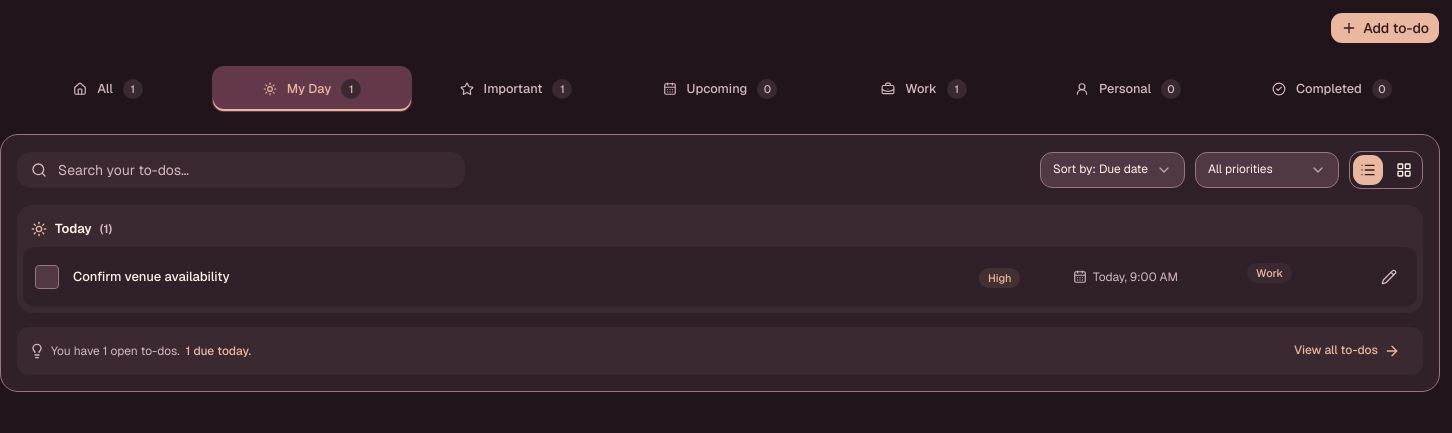
Scenario: TodoManager › shows a rejected completion update without marking the item complete
The image size is (1452, 433).
Click the button named "Mark \"Confirm venue availability\" as completed" at x=47, y=276, box [35,264,59,288]
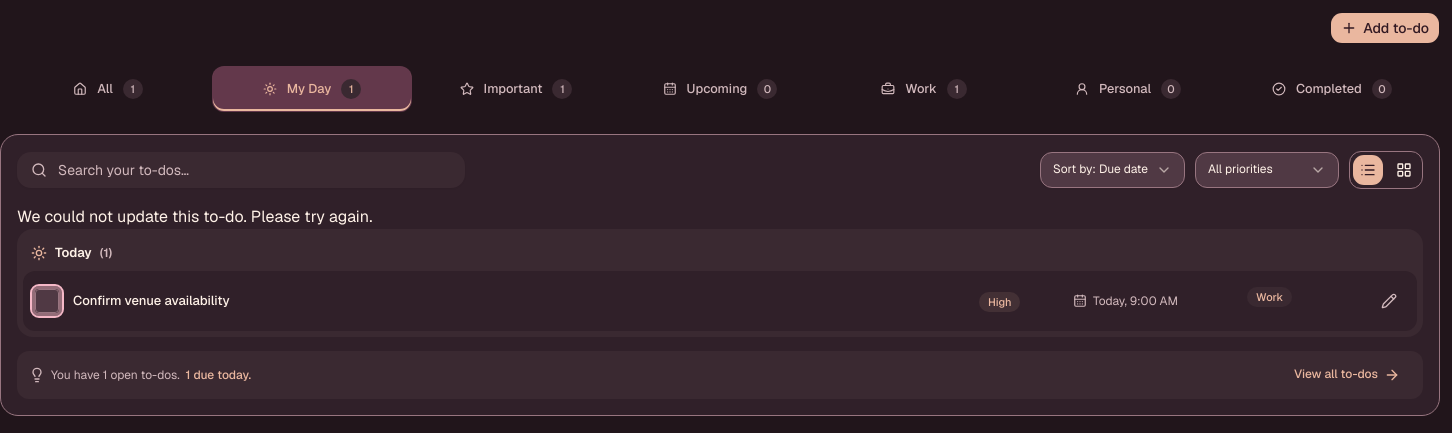
Expected: the button named "Mark \"Confirm venue availability\" as completed" is enabled, [35,288,59,312]
Expected: the message shows "could not update this to-do", [17,206,372,227]
